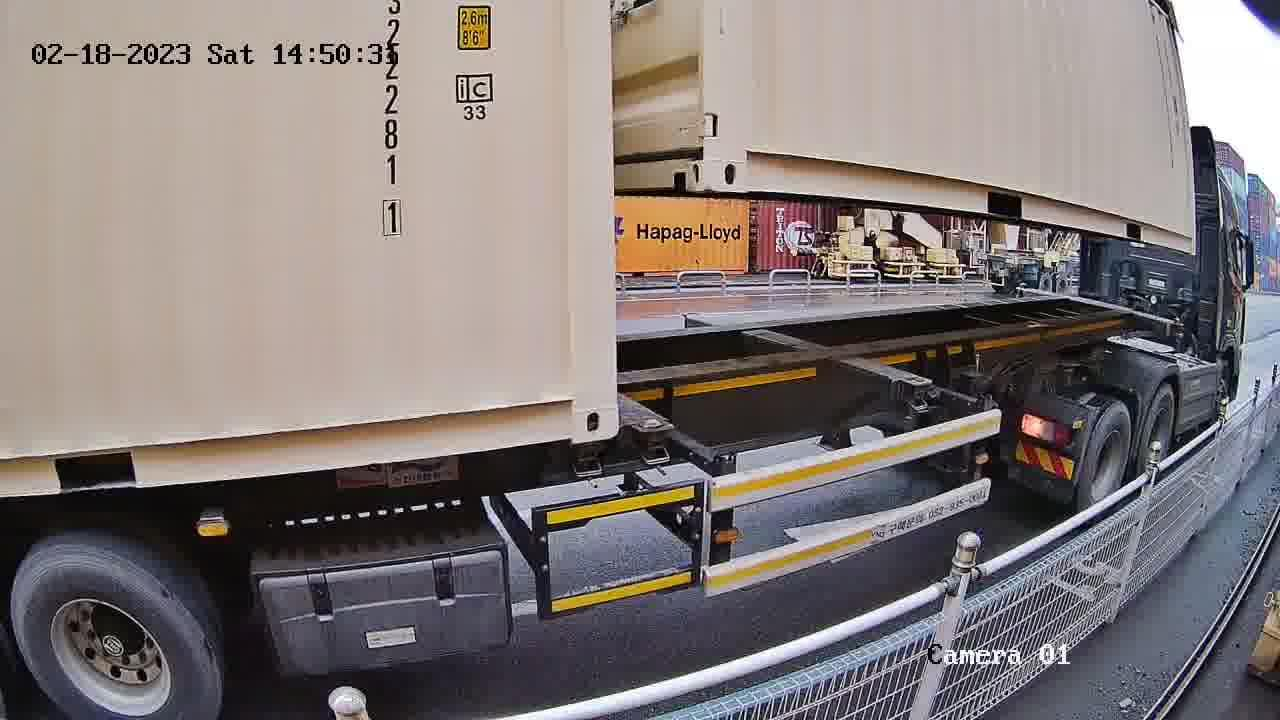Cone: (633, 419, 673, 472), (566, 441, 604, 488)
Hole_L: (704, 118, 783, 194)
Hole_R: (534, 374, 618, 443), (653, 125, 705, 193)
Tire: (11, 546, 219, 719), (1081, 406, 1131, 516), (1143, 388, 1176, 478)
